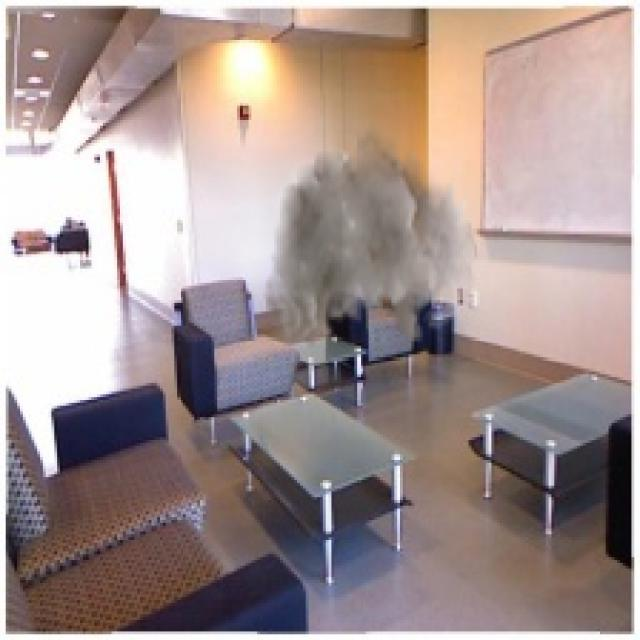smoke: (263, 120, 477, 349)
